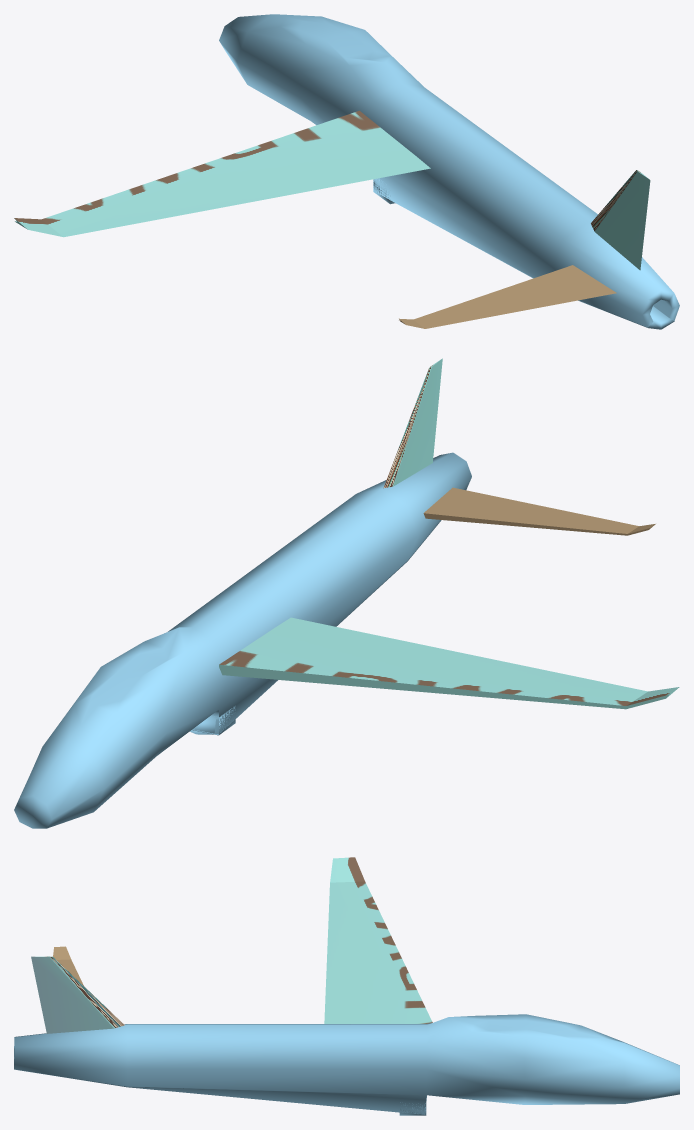
File: airwaysv1.gltf
The picture shows the model from 3 angles, top to bottom: view 1: azimuth 30°, elevation 25°; view 2: azimuth 150°, elevation 25°; view 3: azimuth 270°, elevation 25°; orthographic projection. The views are drawn at different scales.
Parts seen in each view (by area): view 1: Circle, Cube, Cube.001, Cube.002; view 2: Circle, Cube, Cube.001, Cube.002; view 3: Circle, Cube, Cube.002, Cube.001.
Part boxes in pixels (x1=…): Circle: x1=219, y1=14, x2=679, y2=329; Cube: x1=14, y1=110, x2=430, y2=237; Cube.001: x1=399, y1=265, x2=616, y2=328; Cube.002: x1=591, y1=170, x2=650, y2=270; Circle: x1=14, y1=452, x2=471, y2=828; Cube: x1=219, y1=617, x2=679, y2=709; Cube.001: x1=423, y1=487, x2=655, y2=535; Cube.002: x1=383, y1=358, x2=442, y2=488; Circle: x1=14, y1=1014, x2=679, y2=1115; Cube: x1=324, y1=857, x2=432, y2=1023; Cube.002: x1=31, y1=956, x2=124, y2=1033; Cube.001: x1=53, y1=946, x2=83, y2=985.
Size of the model in its own units: 12.75 by 5.06 by 19.99.
Materials: 4 (3 with a texture image).
